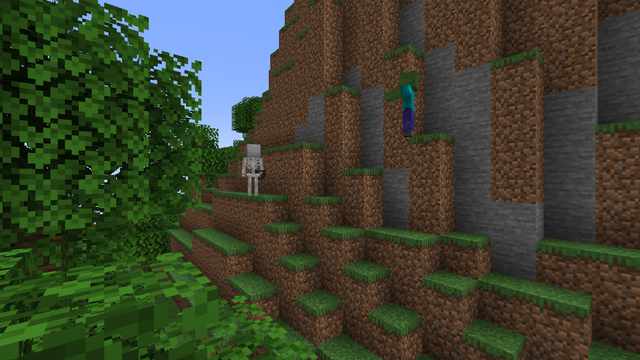squelettes: (242, 143, 262, 195)
zombies: (395, 70, 422, 137)
